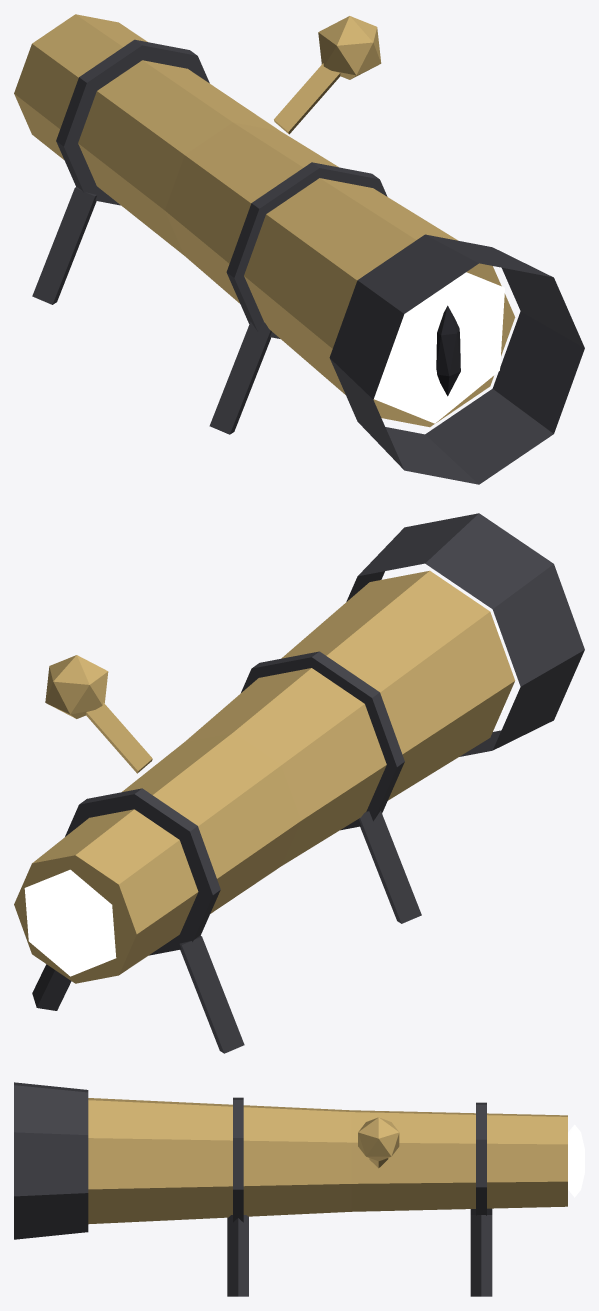
File: gun-sight-glass.glb
3 renders of one model, top to bottom at view 1: azimuth 30°, elevation 25°; view 2: azimuth 150°, elevation 25°; view 3: azimuth 270°, elevation 25°, orthographic. The views are drawn at different scales.
Parts seen in each view (by area): view 1: sight_glass; view 2: sight_glass; view 3: sight_glass.
Boxes of the visible parts, x1,y1,x2,y2 form: sight_glass: (14,14,584,484); sight_glass: (14,513,584,1053); sight_glass: (14,1082,584,1296).
Size of the model in its own units: 0.1584 by 0.1613 by 0.4227.
